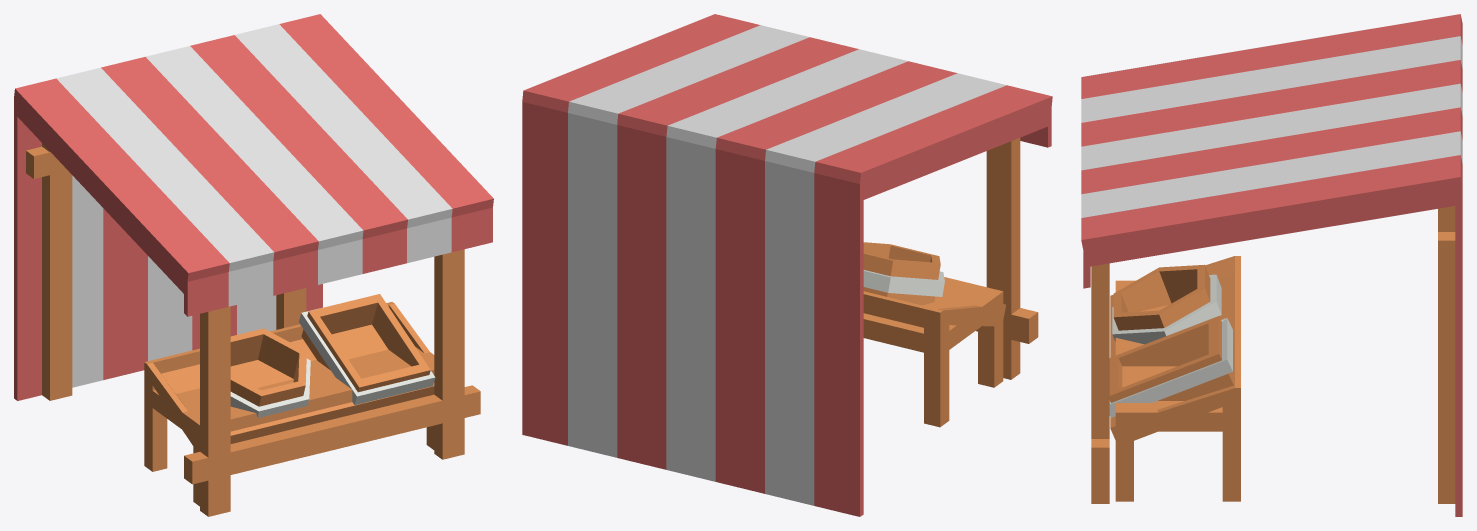
The model's file is Stand.fbx.
3 renders of one model, left to right at view 1: azimuth 30°, elevation 25°; view 2: azimuth 150°, elevation 25°; view 3: azimuth 270°, elevation 25°, orthographic. The views are drawn at different scales.
Visible parts, largest first — view 1: Stand_Cover, Stand_Body, Stand_Holder_01, Stand_Table_02, Stand_Table_01, Stand_Holder_02; view 2: Stand_Cover, Stand_Body, Stand_Table_02, Stand_Table_01, Stand_Holder_02; view 3: Stand_Cover, Stand_Body, Stand_Holder_01, Stand_Table_01, Stand_Holder_02, Stand_Table_02.
Boxes of the visible parts, left/top/right/bottom form: Stand_Cover: left=14, top=14, right=493, bottom=400; Stand_Body: left=26, top=143, right=480, bottom=516; Stand_Holder_01: left=299, top=293, right=435, bottom=404; Stand_Table_02: left=144, top=302, right=434, bottom=505; Stand_Table_01: left=144, top=347, right=434, bottom=506; Stand_Holder_02: left=230, top=328, right=310, bottom=417; Stand_Cover: left=522, top=14, right=1052, bottom=516; Stand_Body: left=976, top=138, right=1038, bottom=379; Stand_Table_02: left=863, top=291, right=1005, bottom=426; Stand_Table_01: left=863, top=277, right=1003, bottom=427; Stand_Holder_02: left=863, top=242, right=944, bottom=305; Stand_Cover: left=1081, top=14, right=1462, bottom=516; Stand_Body: left=1091, top=206, right=1455, bottom=503; Stand_Holder_01: left=1109, top=316, right=1234, bottom=417; Stand_Table_01: left=1115, top=280, right=1240, bottom=501; Stand_Holder_02: left=1112, top=264, right=1221, bottom=344; Stand_Table_02: left=1110, top=256, right=1240, bottom=501.
Bounding box in the file's own units: 308 × 300 × 305.
